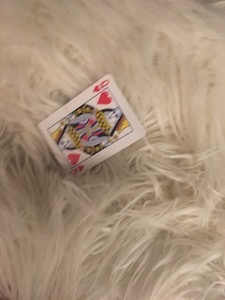QueenOfHearts: (38, 74, 150, 180)
